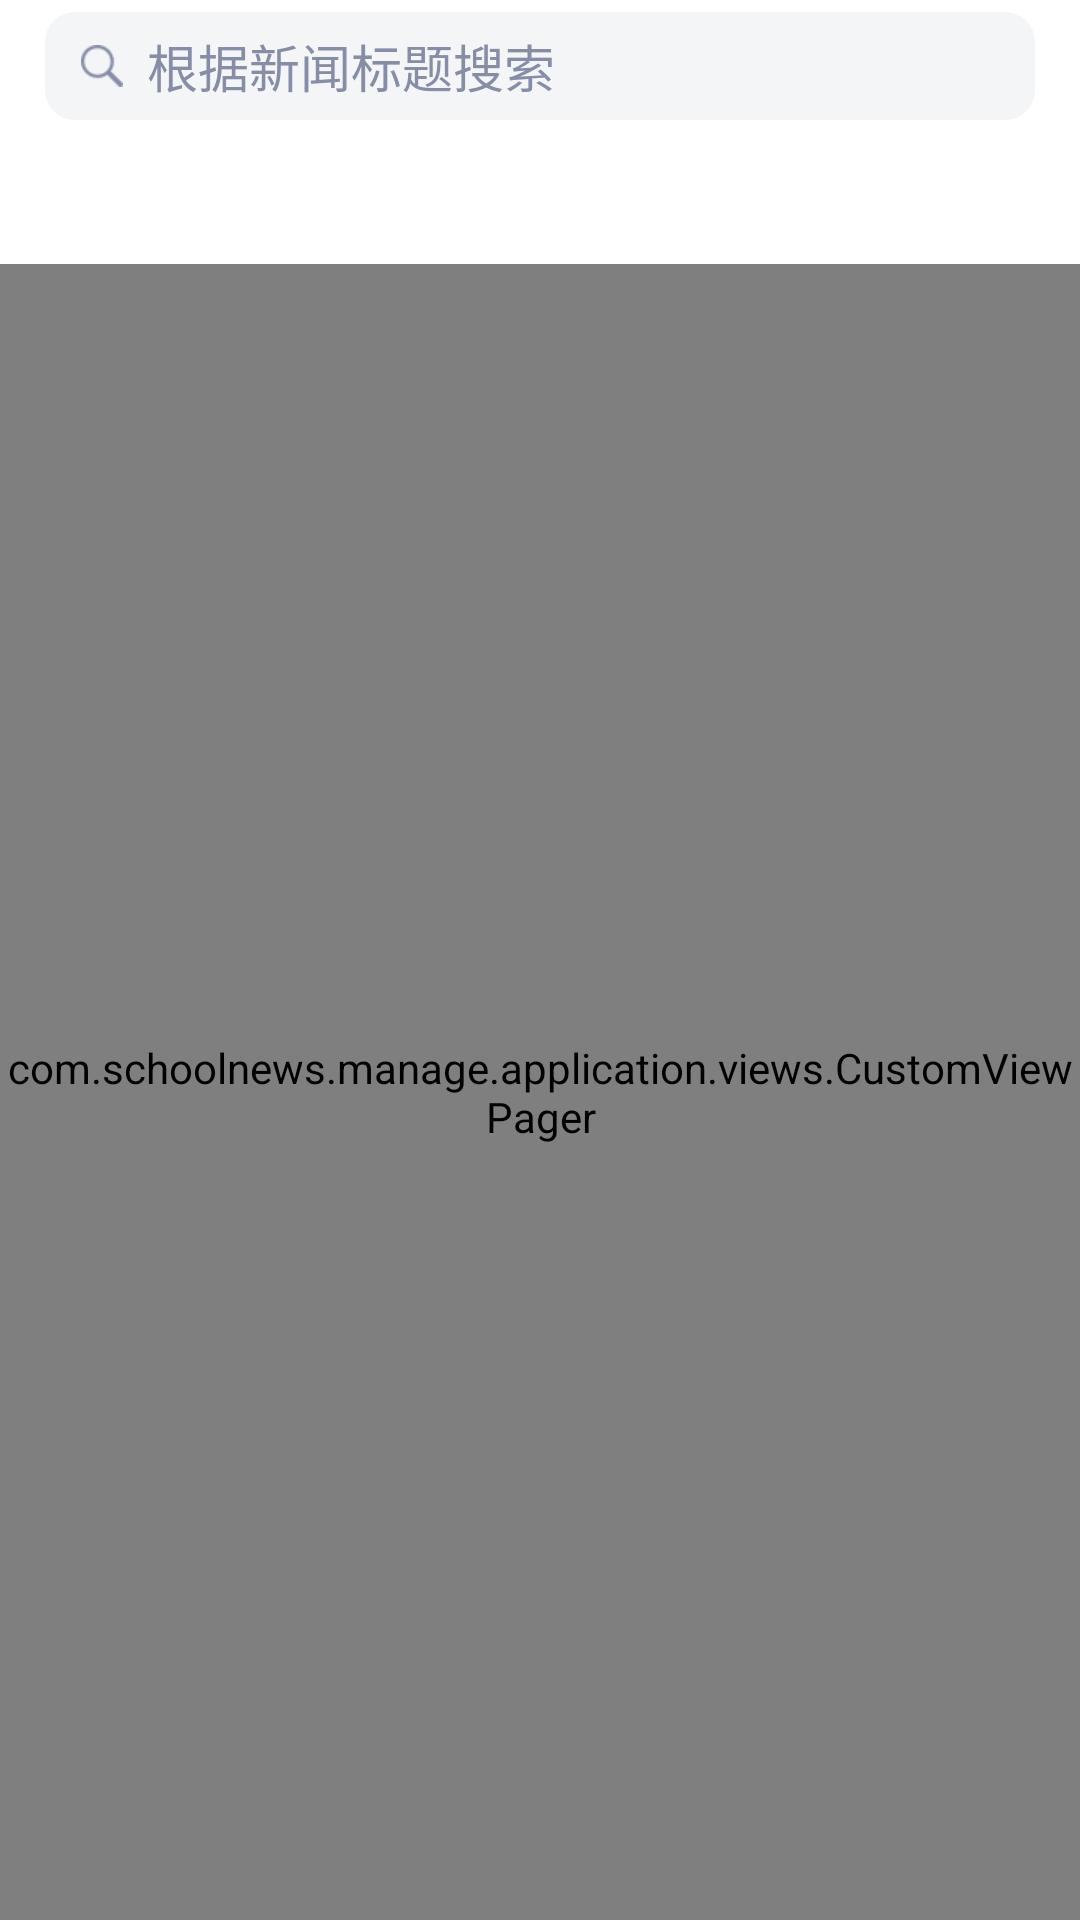

Screen size 1080*1920. Icon name, then its center in pixels as (x,y):
search title: (102,66)
